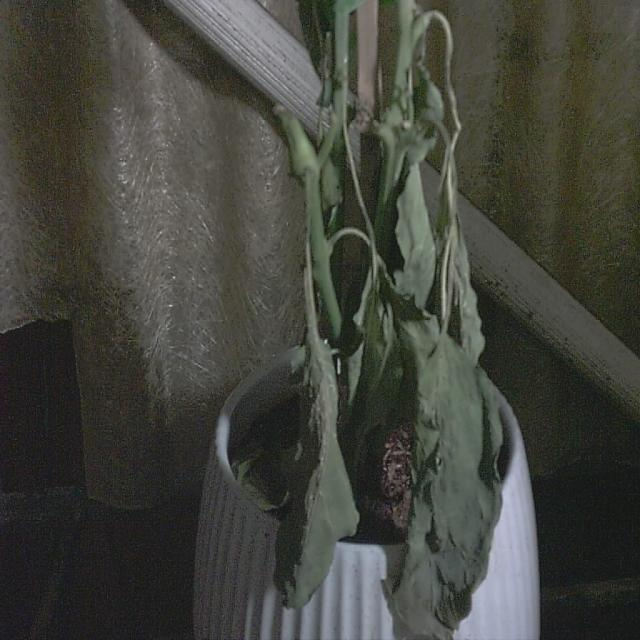Leaf: (387, 335, 502, 640), (271, 316, 360, 608)
